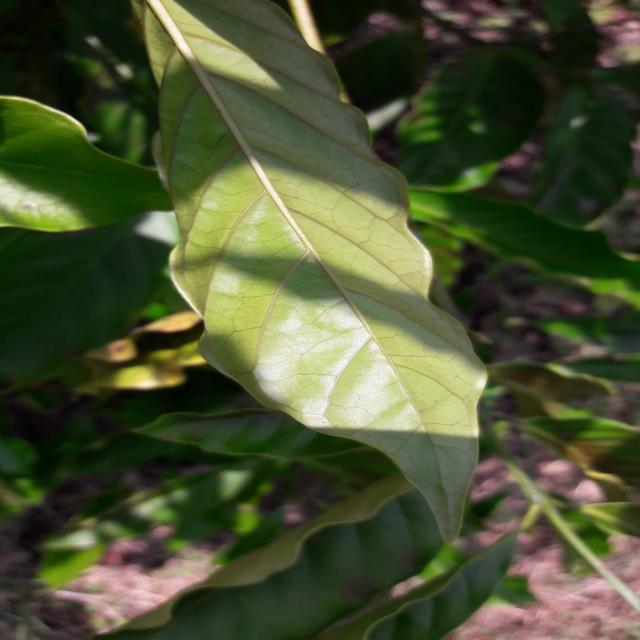Sanas: (138, 0, 488, 548)
